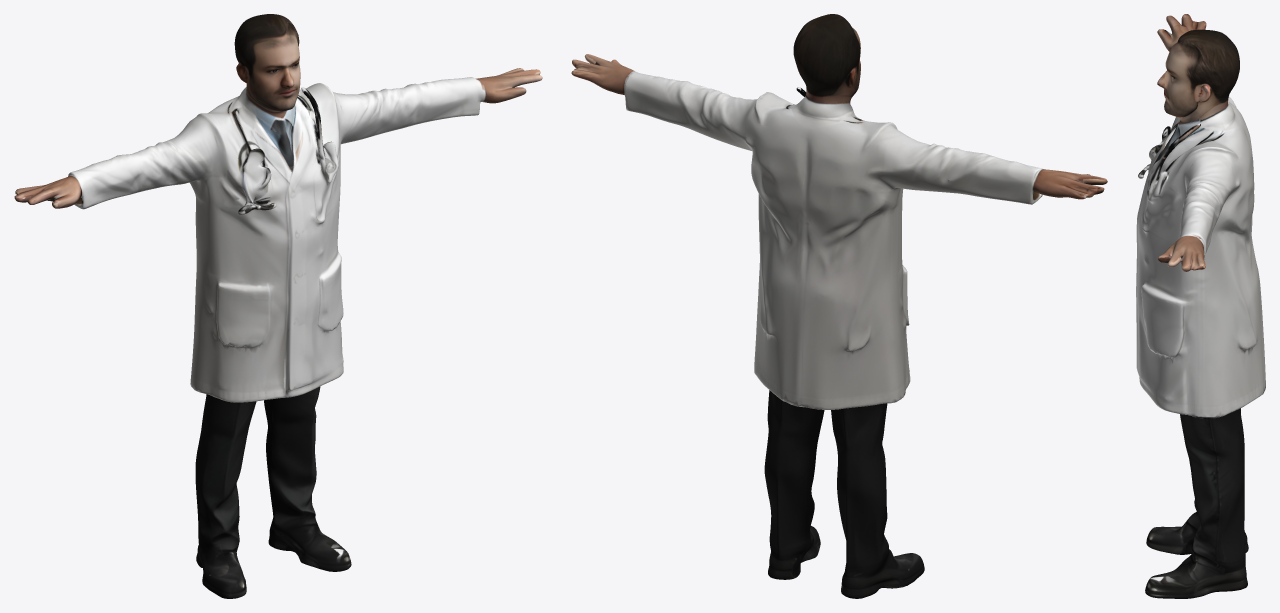
File: doctor.glb
The picture shows the model from 3 angles, left to right: view 1: azimuth 30°, elevation 25°; view 2: azimuth 150°, elevation 25°; view 3: azimuth 270°, elevation 25°; orthographic projection. The views are drawn at different scales.
Visible parts, largest first — view 1: mvadapter_node_texture_mesh_fa24626fd55b5bb6.glb_0; view 2: mvadapter_node_texture_mesh_fa24626fd55b5bb6.glb_0; view 3: mvadapter_node_texture_mesh_fa24626fd55b5bb6.glb_0.
Part boxes in pixels (x1=…): mvadapter_node_texture_mesh_fa24626fd55b5bb6.glb_0: x1=14, y1=14, x2=542, y2=598; mvadapter_node_texture_mesh_fa24626fd55b5bb6.glb_0: x1=571, y1=14, x2=1107, y2=598; mvadapter_node_texture_mesh_fa24626fd55b5bb6.glb_0: x1=1136, y1=14, x2=1265, y2=598.
Bounding box in the file's own units: 1.88 × 1.87 × 0.4064.
1 material, 1 textured.
